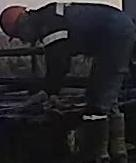helmet: (0, 4, 30, 41)
vest: (33, 1, 136, 59)
